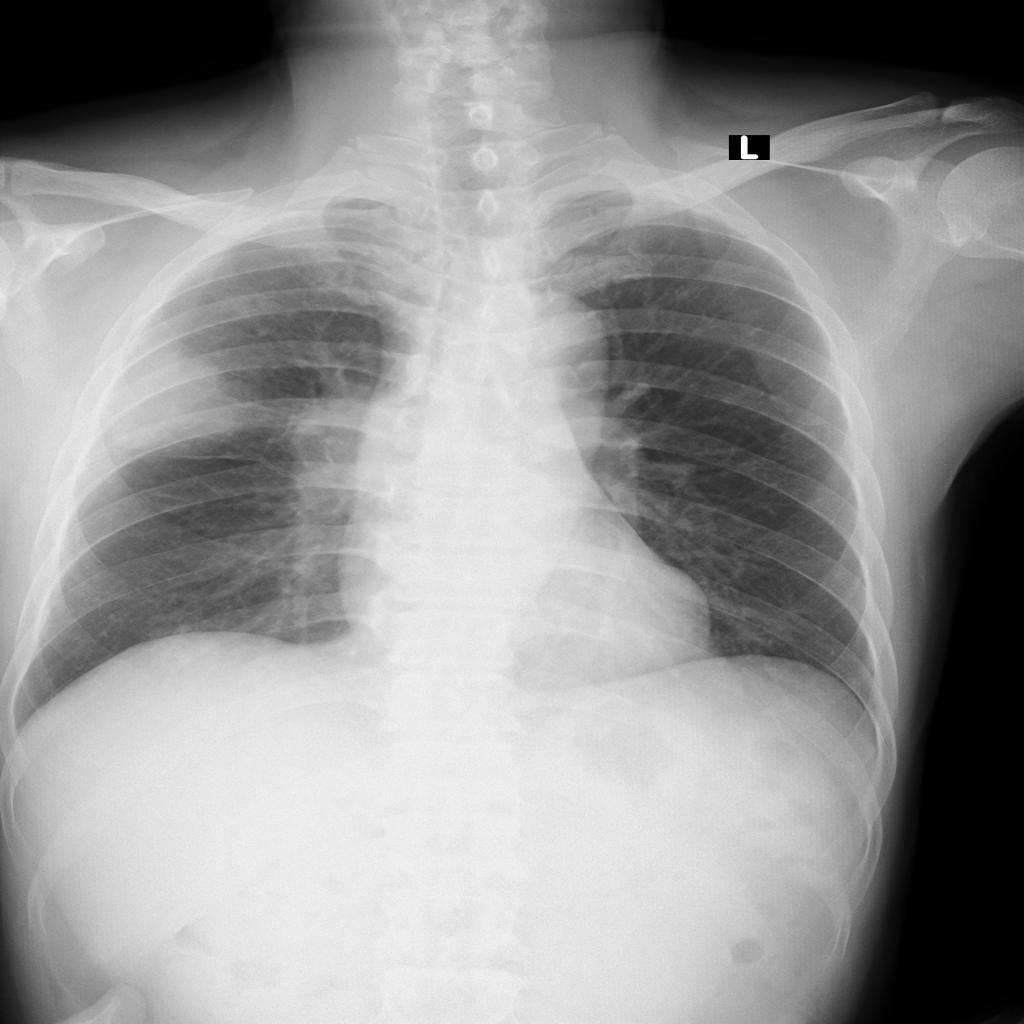Nodule: (104, 355, 242, 458)
